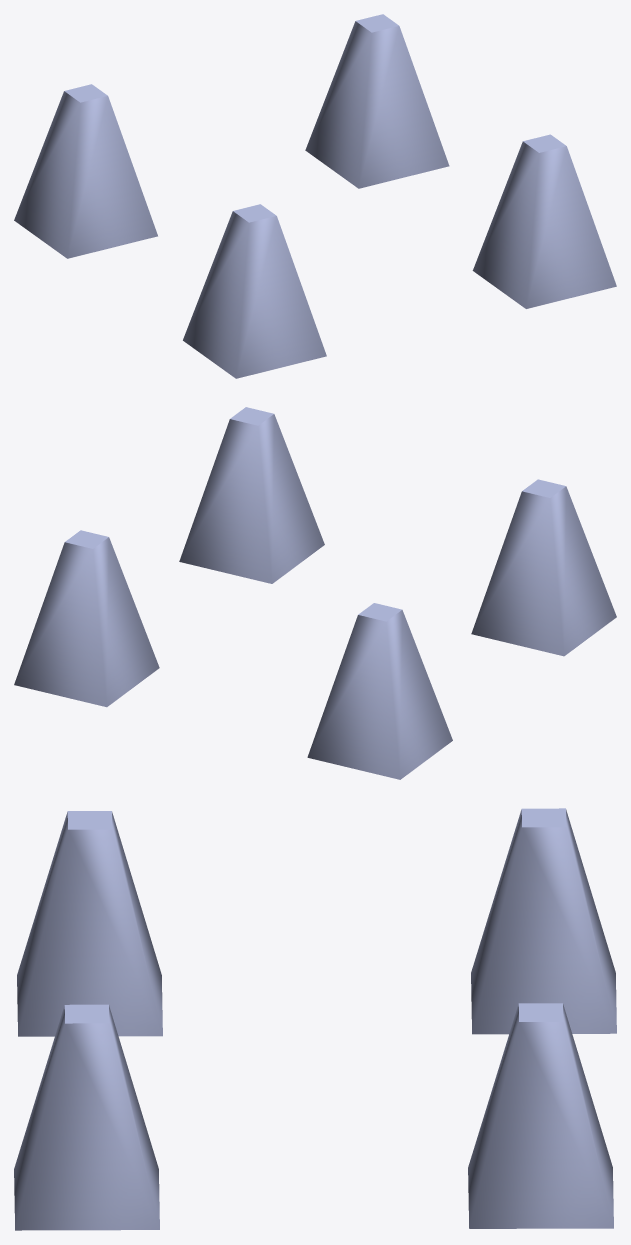
File: spikes.004_lev5.glb
3 renders of one model, top to bottom at view 1: azimuth 30°, elevation 25°; view 2: azimuth 150°, elevation 25°; view 3: azimuth 270°, elevation 25°, orthographic. The views are drawn at different scales.
Parts seen in each view (by area): view 1: spikes.004_lev5; view 2: spikes.004_lev5; view 3: spikes.004_lev5.
Boxes of the visible parts, left/top/right/bottom form: spikes.004_lev5: left=14, top=14, right=616, bottom=378; spikes.004_lev5: left=14, top=407, right=616, bottom=779; spikes.004_lev5: left=14, top=808, right=616, bottom=1230.
Size of the model in its own units: 2.03 by 0.68 by 2.
1 material, 1 textured.
